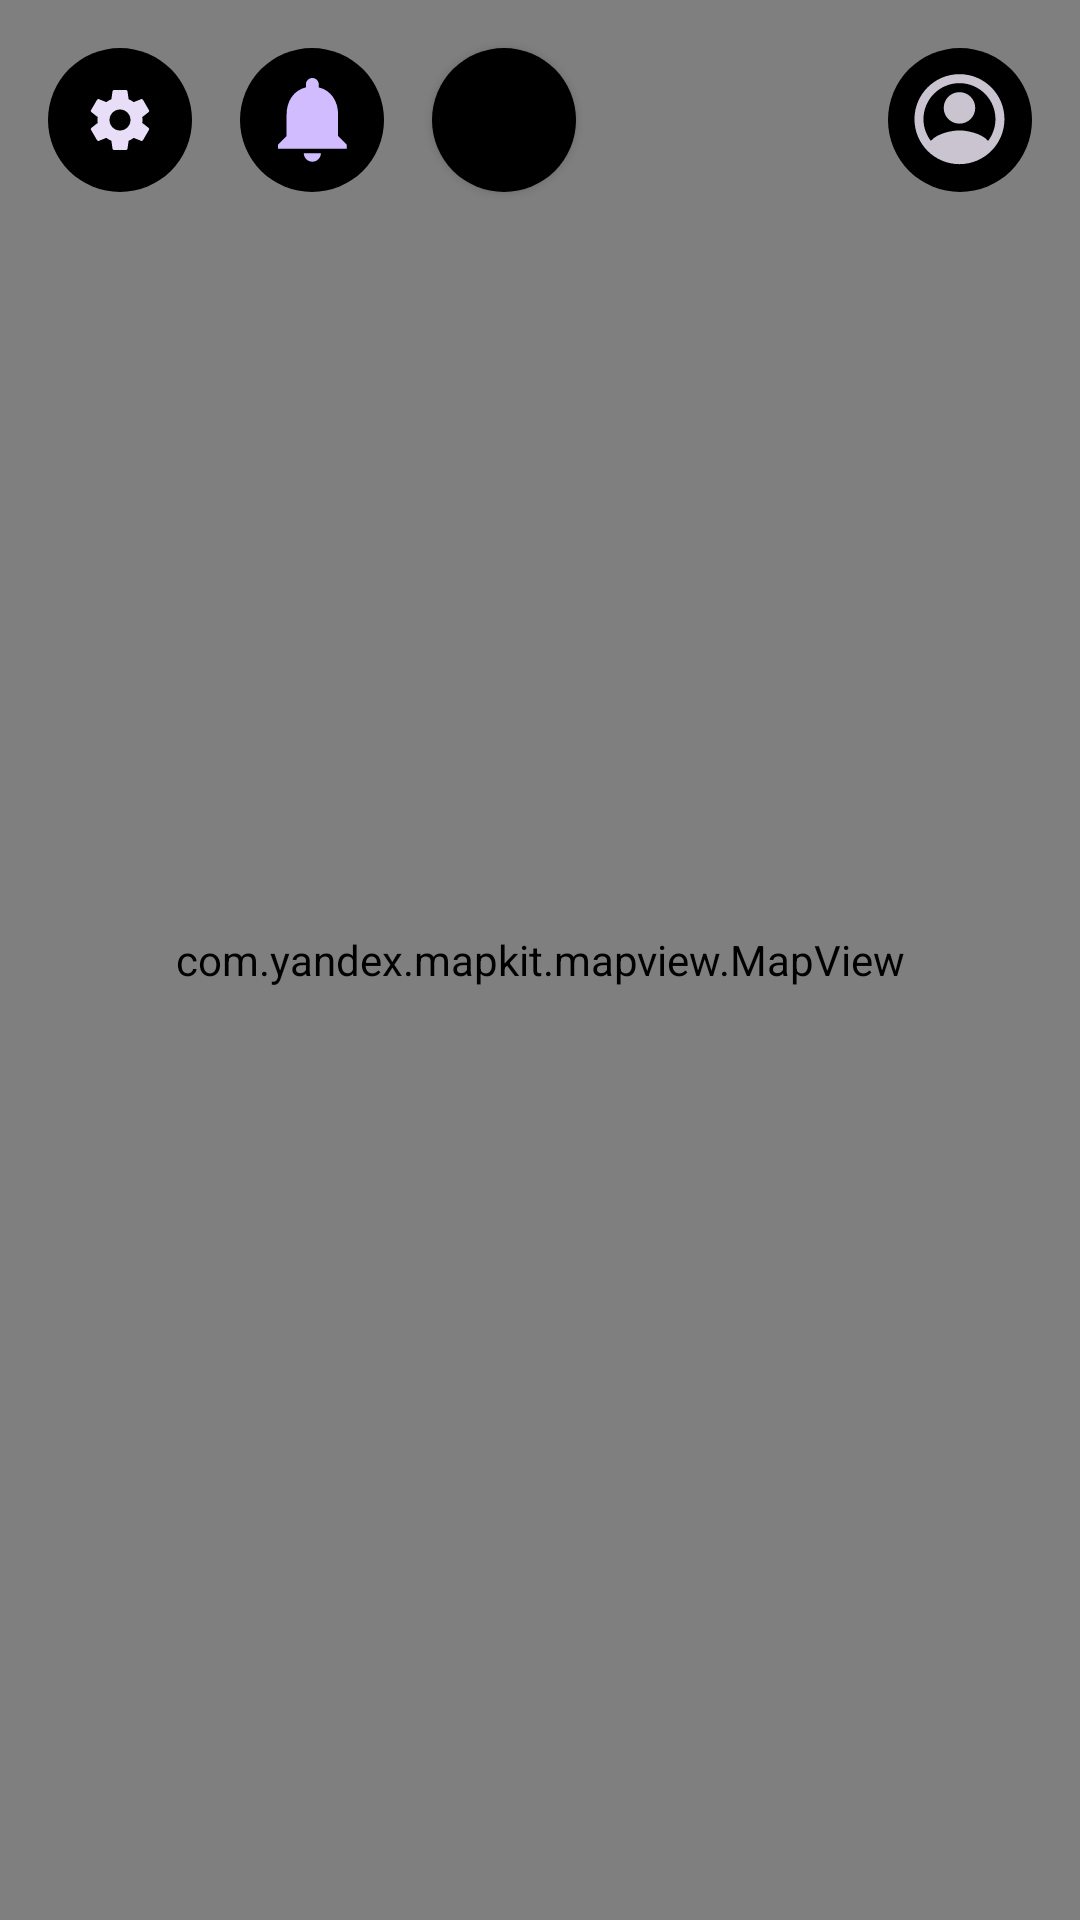

Icon bounding boxes for this 1080px x 1920px phone screenshot, format (x1, y1, x2, y2):
Notifications: (240, 48, 384, 192)
Settings: (48, 48, 192, 192)
